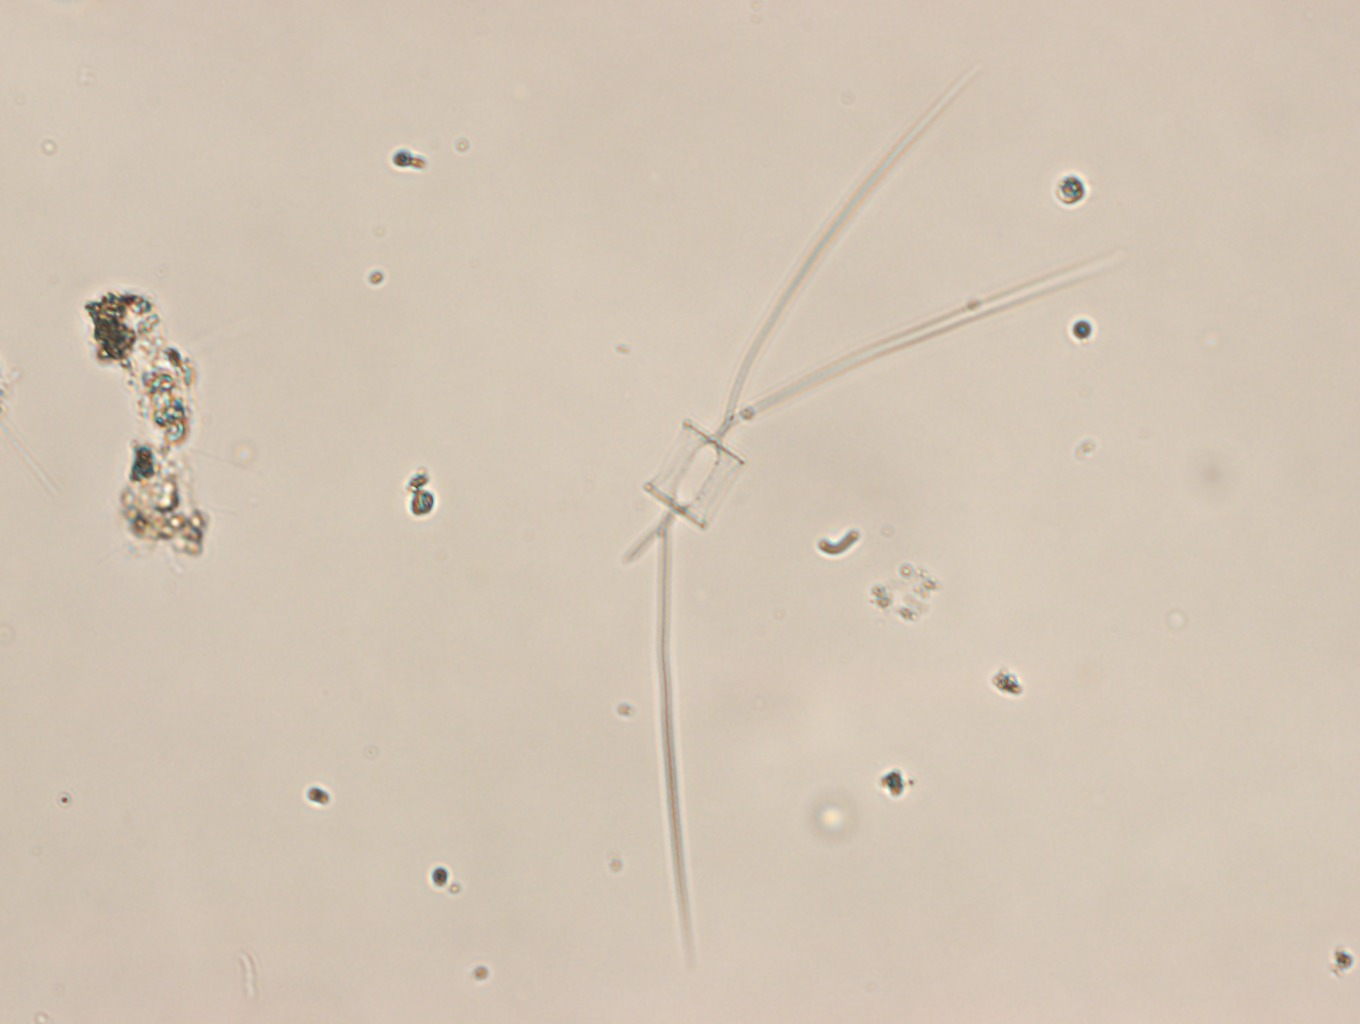chaetoceros: (619, 60, 1123, 959)
